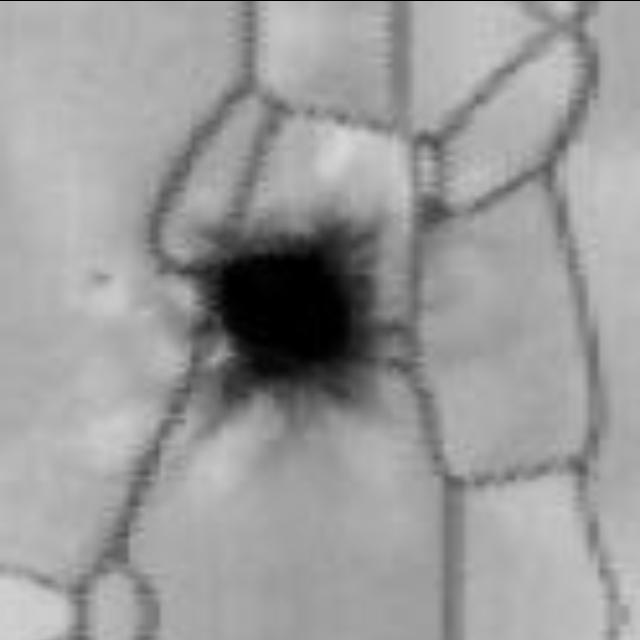good_void: (171, 213, 413, 409)
